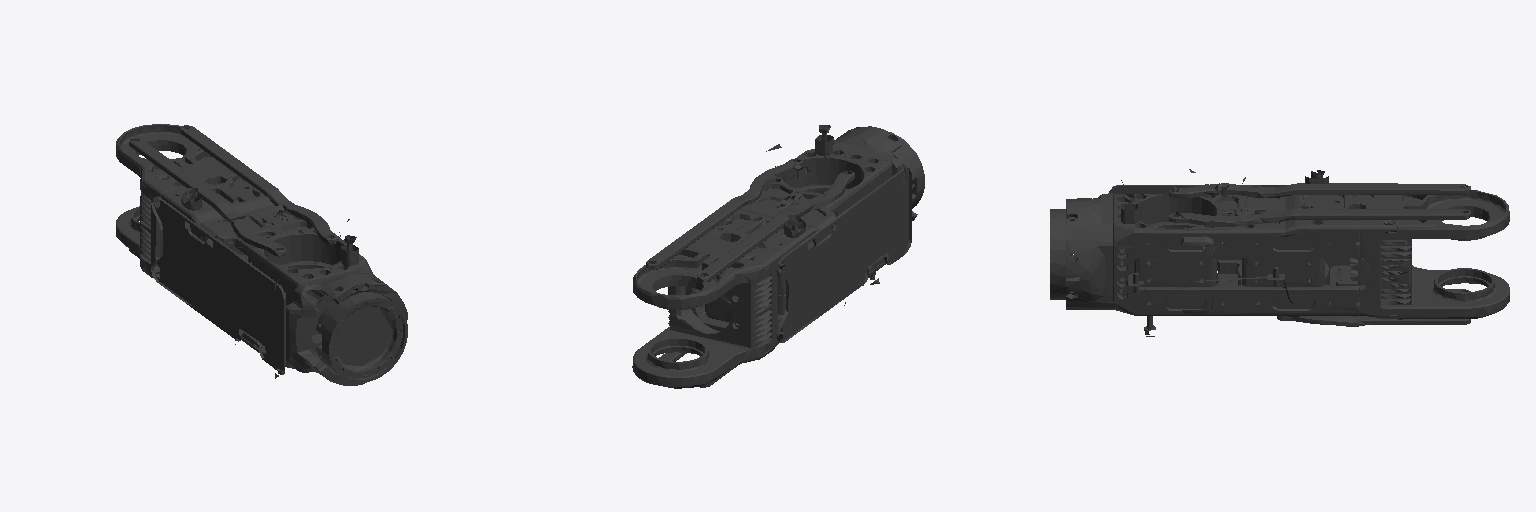
Rendered from wristYawLeft_1.obj.
3 renders of one model, left to right at view 1: azimuth 30°, elevation 25°; view 2: azimuth 150°, elevation 25°; view 3: azimuth 270°, elevation 25°, orthographic.
Size of the model in its own units: 0.0697 by 0.0758 by 0.2264.